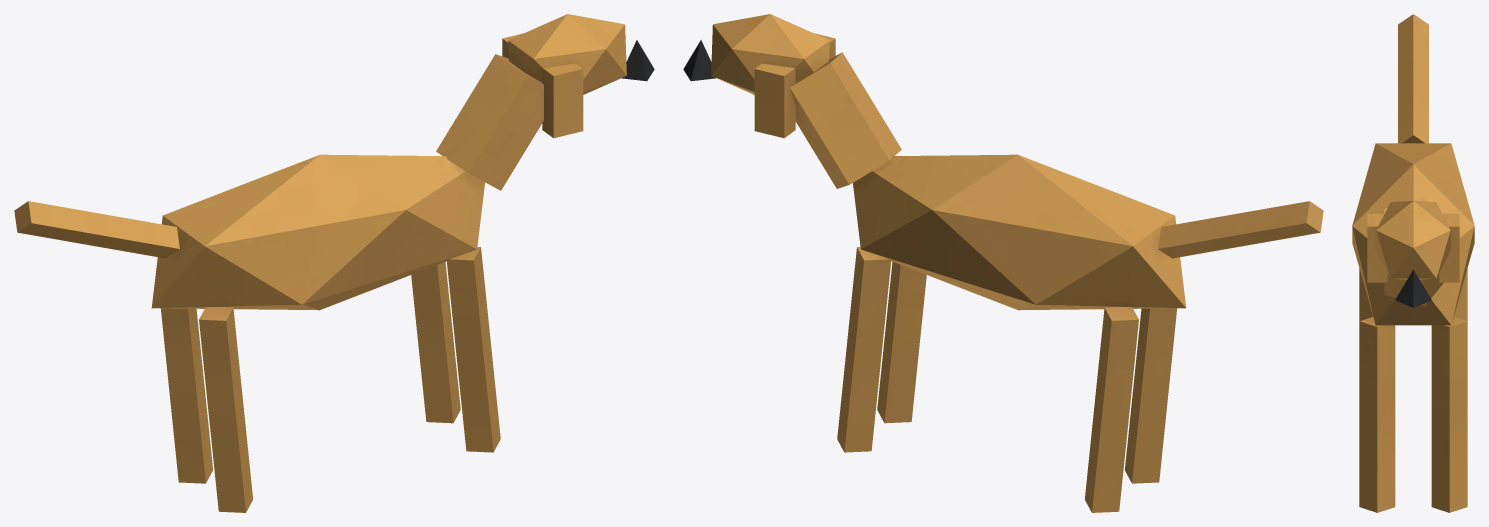
Rendered from hund_tex.glb.
The picture shows the model from 3 angles, left to right: view 1: azimuth 30°, elevation 25°; view 2: azimuth 150°, elevation 25°; view 3: azimuth 270°, elevation 25°; orthographic projection. The views are drawn at different scales.
Parts seen in each view (by area): view 1: hund; view 2: hund; view 3: hund.
Part boxes in pixels (x1=…): hund: x1=14, y1=14, x2=654, y2=512; hund: x1=683, y1=14, x2=1323, y2=512; hund: x1=1352, y1=14, x2=1474, y2=512.
Size of the model in its own units: 1.29 by 0.7587 by 0.2382.
Materials: 2 (2 with a texture image).
